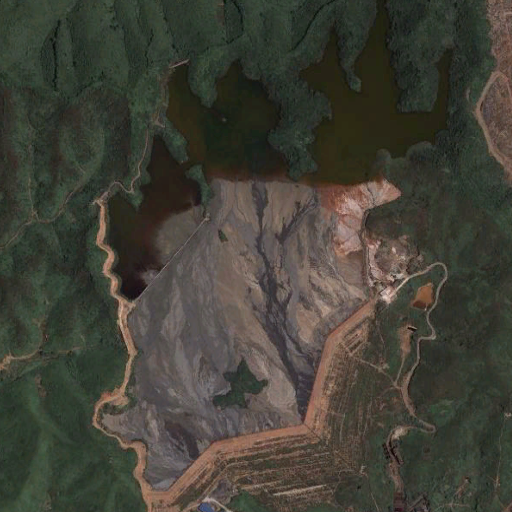tp: (82, 15, 454, 512)
